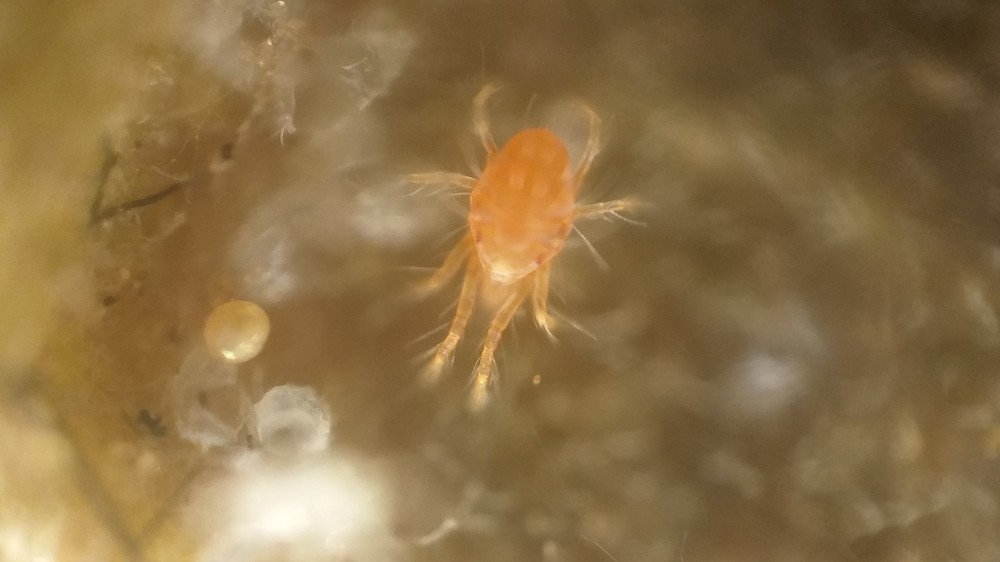Aracnido Rojo: (389, 86, 642, 429)
